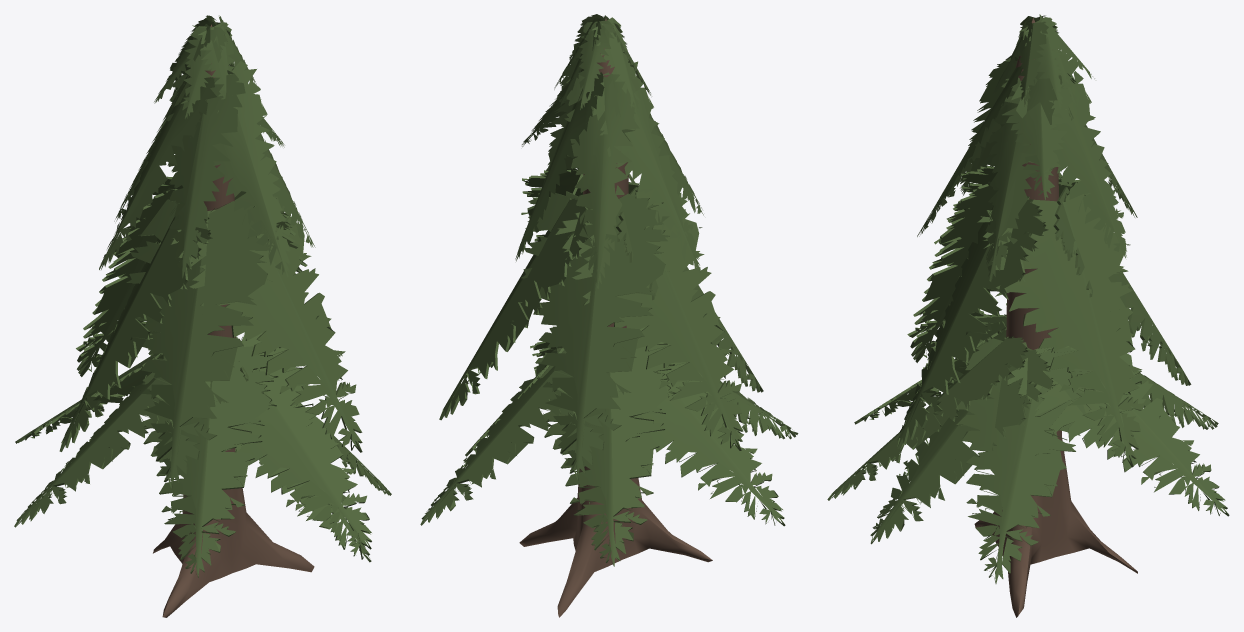
Rendered from tree-2.fbx.
The picture shows the model from 3 angles, left to right: view 1: azimuth 30°, elevation 25°; view 2: azimuth 150°, elevation 25°; view 3: azimuth 270°, elevation 25°; orthographic projection.
Parts seen in each view (by area): view 1: stamme_1; view 2: stamme_1; view 3: stamme_1.
Boxes of the visible parts, left/top/right/bottom form: stamme_1: left=14, top=15, right=391, bottom=617; stamme_1: left=420, top=14, right=798, bottom=617; stamme_1: left=827, top=14, right=1229, bottom=617.
Size of the model in its own units: 741 by 1149 by 745.
